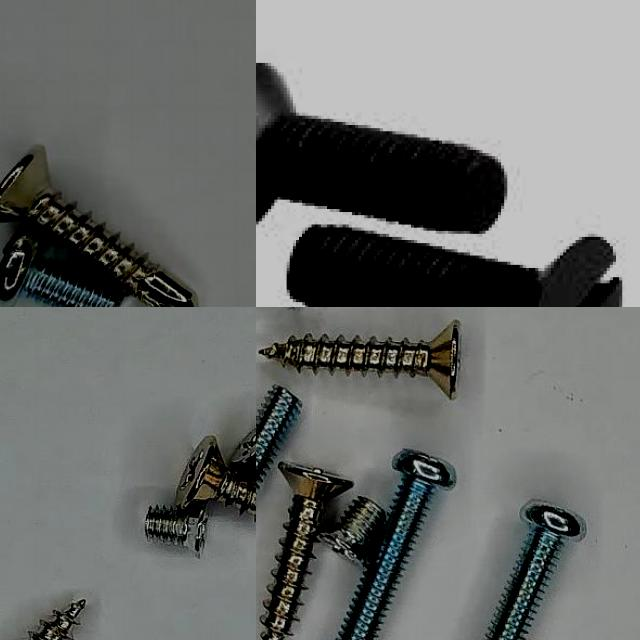Screw: (256, 63, 507, 237), (0, 147, 194, 307), (284, 224, 625, 307), (337, 449, 455, 640), (260, 462, 352, 640), (260, 320, 459, 398), (486, 501, 585, 640), (0, 229, 122, 307), (175, 436, 256, 514), (317, 496, 385, 564), (144, 504, 207, 557), (230, 429, 256, 482)
